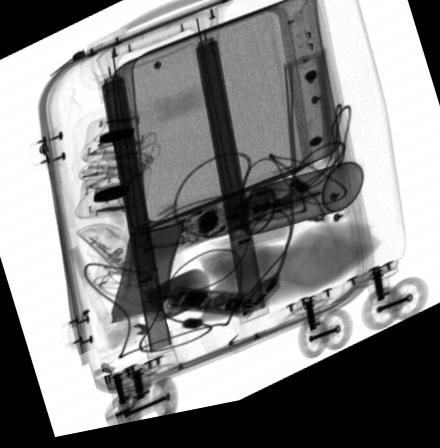Sprayer: (224, 174, 364, 249)
